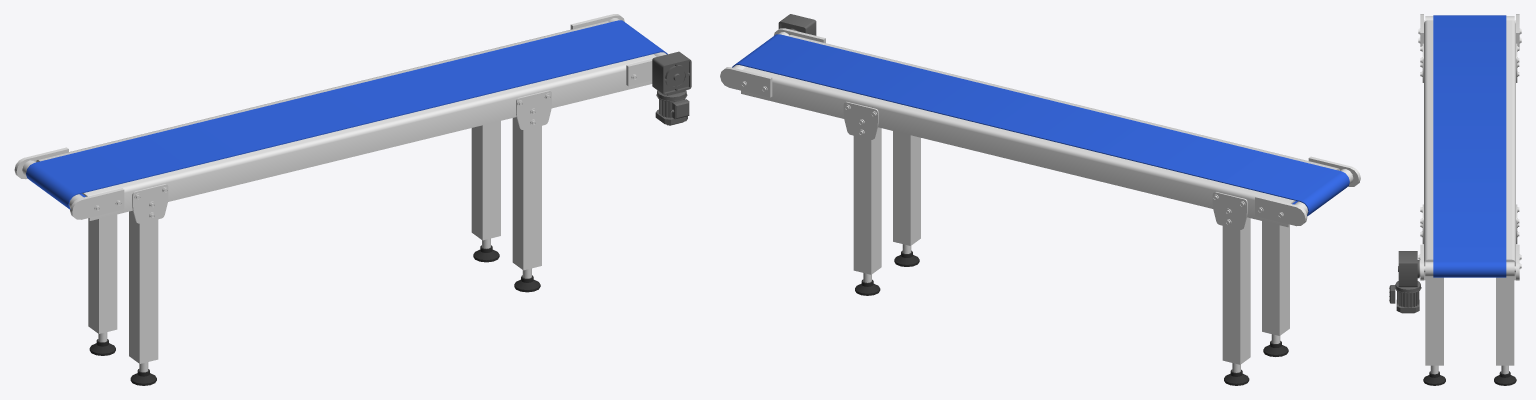
File: Mespack_Conveyor.fbx
3 views of the same model, side by side, from view 1: azimuth 30°, elevation 25°; view 2: azimuth 150°, elevation 25°; view 3: azimuth 270°, elevation 25° (orthographic). The views are drawn at different scales.
Parts seen in each view (by area): view 1: ConveyorStand, ConveyorBelt, Plane.005; view 2: ConveyorStand, ConveyorBelt, Plane.005; view 3: ConveyorBelt, ConveyorStand, Plane.005.
Boxes of the visible parts, <box> form: ConveyorStand: <box>14,14,666,385</box>; ConveyorBelt: <box>26,20,667,209</box>; Plane.005: <box>652,51,691,125</box>; ConveyorStand: <box>720,28,1360,385</box>; ConveyorBelt: <box>732,34,1349,216</box>; Plane.005: <box>778,14,816,35</box>; ConveyorBelt: <box>1433,15,1506,277</box>; ConveyorStand: <box>1418,14,1521,385</box>; Plane.005: <box>1389,251,1421,313</box>.
Size of the model in its own units: 282 by 91.97 by 61.54.
